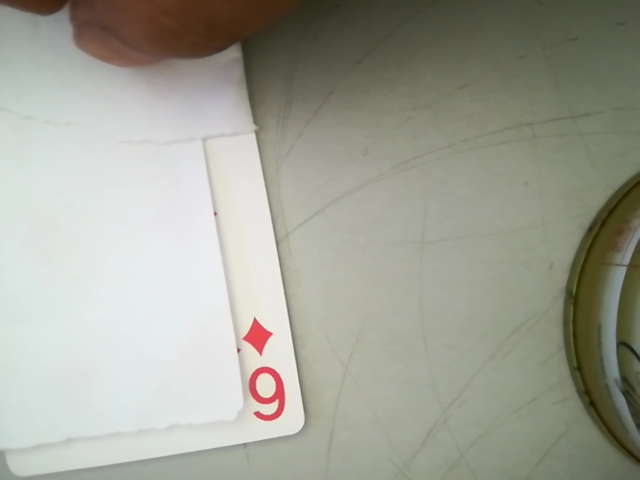fk 6: (226, 305, 291, 431)
